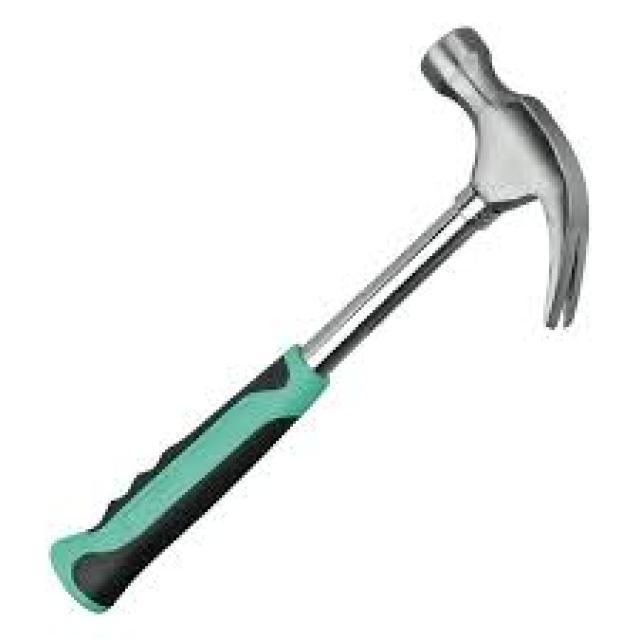Palu: (41, 29, 601, 622)
